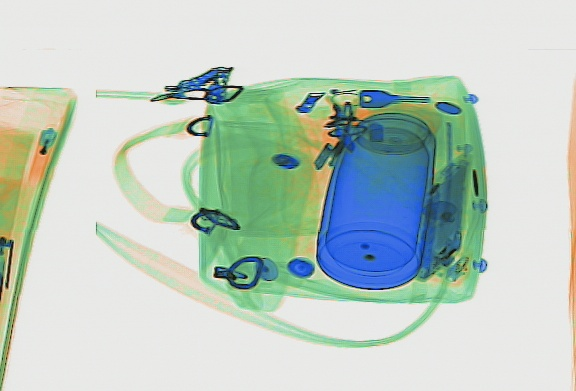lighter: (12, 125, 57, 245)
